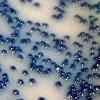Blue: (84, 89, 96, 100), (75, 89, 88, 98), (32, 1, 42, 9), (85, 82, 95, 90), (3, 36, 12, 44), (79, 18, 88, 26), (80, 0, 88, 9), (21, 69, 30, 77), (34, 67, 43, 75), (57, 66, 65, 75), (88, 50, 96, 59), (37, 50, 45, 58), (55, 65, 63, 73), (86, 34, 94, 42), (92, 54, 100, 62), (54, 81, 63, 88), (92, 2, 99, 11), (0, 72, 10, 78), (95, 0, 100, 12), (35, 63, 45, 69), (6, 18, 14, 25), (12, 16, 20, 23), (15, 23, 23, 30), (9, 65, 17, 72), (26, 19, 34, 26), (41, 22, 49, 29), (88, 4, 95, 12), (29, 65, 37, 72), (31, 56, 38, 64), (42, 69, 50, 76), (40, 57, 48, 64), (45, 56, 52, 64), (59, 71, 67, 78), (53, 63, 60, 71), (65, 51, 73, 58), (62, 57, 70, 64), (77, 31, 85, 38), (89, 46, 97, 53), (90, 40, 98, 47), (66, 92, 74, 99), (90, 66, 99, 72), (25, 31, 32, 38), (49, 31, 56, 38), (59, 8, 66, 15), (73, 13, 80, 20), (93, 9, 100, 16), (32, 45, 39, 52), (34, 40, 41, 47), (43, 43, 50, 50), (46, 66, 53, 73), (72, 41, 79, 48), (93, 85, 100, 92), (80, 85, 87, 92), (16, 78, 24, 84), (16, 53, 22, 61), (16, 49, 24, 55), (18, 38, 24, 46), (85, 2, 91, 10), (92, 16, 100, 22), (91, 26, 97, 34), (94, 24, 100, 32), (26, 52, 34, 58), (33, 54, 41, 60), (64, 34, 70, 42), (72, 58, 80, 64), (73, 75, 81, 81), (72, 94, 80, 100), (56, 49, 65, 54), (66, 71, 75, 76), (75, 50, 84, 55), (91, 63, 100, 68), (10, 9, 17, 15), (7, 45, 14, 51), (1, 49, 8, 55), (30, 26, 36, 33), (34, 28, 41, 34), (26, 37, 32, 44), (22, 37, 28, 44), (49, 14, 56, 20), (54, 14, 60, 21), (59, 2, 66, 8), (77, 15, 83, 22), (87, 14, 94, 20), (39, 39, 45, 46), (50, 62, 57, 68), (59, 75, 66, 81), (53, 44, 60, 50), (54, 39, 61, 45), (60, 61, 67, 67), (77, 43, 84, 49), (82, 57, 89, 63), (86, 76, 93, 82), (79, 78, 86, 84), (92, 72, 99, 78), (2, 4, 10, 9), (36, 96, 46, 100), (89, 23, 97, 28), (68, 66, 76, 71), (11, 32, 17, 38), (16, 19, 22, 25), (8, 39, 14, 45), (1, 76, 7, 82), (11, 50, 17, 56), (43, 32, 49, 38), (58, 43, 64, 49), (59, 39, 65, 45), (83, 33, 89, 39), (66, 75, 72, 81), (70, 88, 76, 94), (68, 86, 77, 90), (76, 71, 82, 77), (80, 68, 86, 74), (87, 73, 93, 79), (94, 60, 100, 66), (94, 46, 100, 52), (82, 81, 88, 87), (1, 12, 8, 17), (5, 15, 12, 20), (19, 0, 26, 5), (0, 39, 5, 46), (0, 33, 5, 40), (14, 91, 21, 96), (58, 12, 63, 19), (62, 45, 69, 50), (82, 38, 89, 43), (62, 0, 70, 4), (29, 62, 37, 66), (69, 63, 77, 67), (79, 62, 87, 66), (3, 8, 9, 13), (8, 6, 13, 12), (14, 29, 20, 34), (19, 20, 25, 25), (2, 83, 8, 88), (12, 89, 18, 94), (40, 30, 46, 35), (54, 5, 59, 11), (56, 8, 62, 13), (70, 0, 76, 5), (87, 26, 92, 32), (51, 38, 57, 43), (76, 56, 81, 62), (72, 53, 78, 58), (95, 50, 100, 56), (11, 26, 18, 30), (75, 0, 82, 4), (96, 30, 100, 37), (42, 41, 46, 48), (24, 0, 33, 3), (0, 1, 5, 6), (5, 79, 10, 84), (95, 74, 100, 79), (0, 9, 4, 15), (11, 38, 17, 42), (0, 83, 4, 89), (19, 82, 25, 86), (30, 80, 36, 84), (29, 78, 35, 82), (34, 22, 40, 26), (77, 54, 83, 58), (72, 80, 78, 84), (84, 66, 90, 70), (2, 0, 9, 3), (15, 34, 20, 38), (5, 76, 10, 80), (15, 98, 25, 100), (12, 45, 16, 50), (16, 46, 21, 50), (20, 55, 24, 60), (89, 20, 94, 24), (0, 79, 3, 85), (58, 0, 64, 3), (70, 84, 76, 87), (0, 66, 2, 74), (37, 24, 41, 28), (2, 81, 7, 84), (80, 56, 83, 60), (0, 3, 2, 8), (80, 66, 85, 68)
